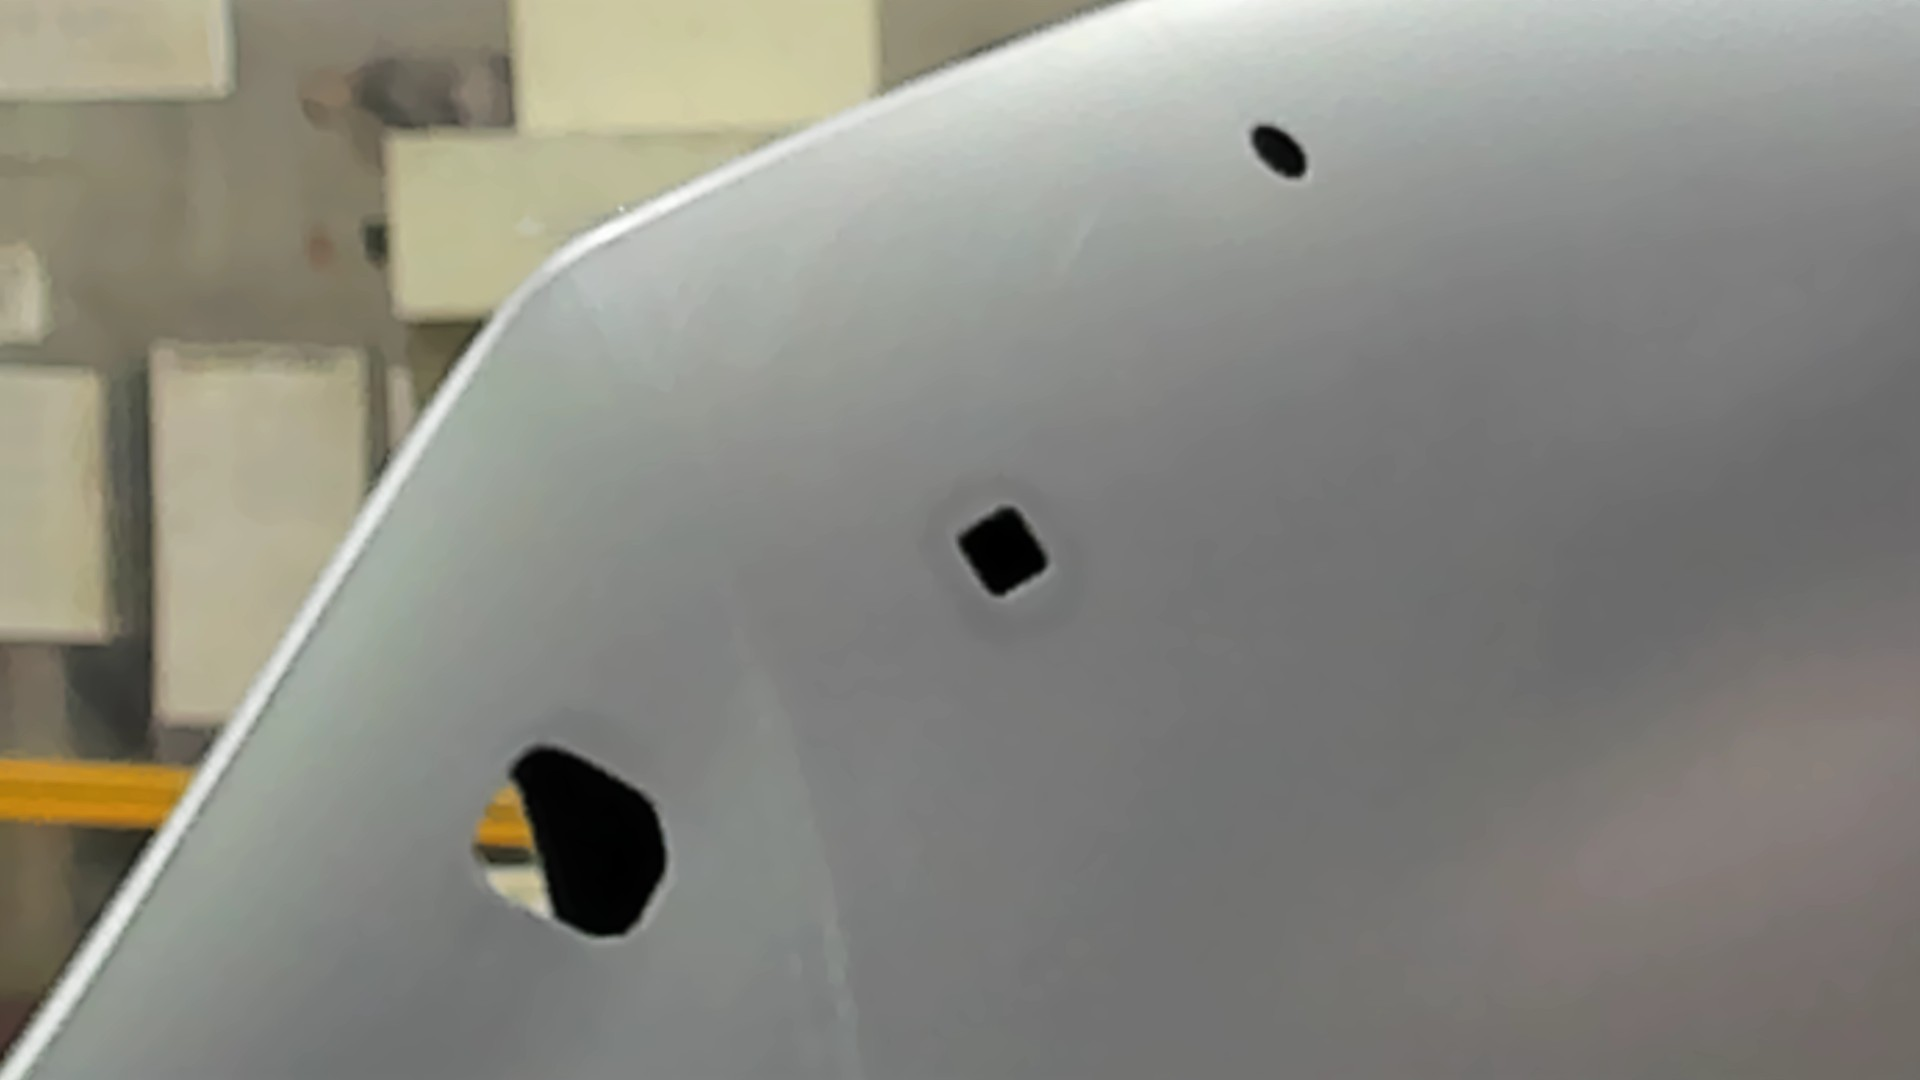chico: (1247, 119, 1313, 183)
grande: (468, 738, 678, 947)
mediano: (949, 500, 1056, 605)
